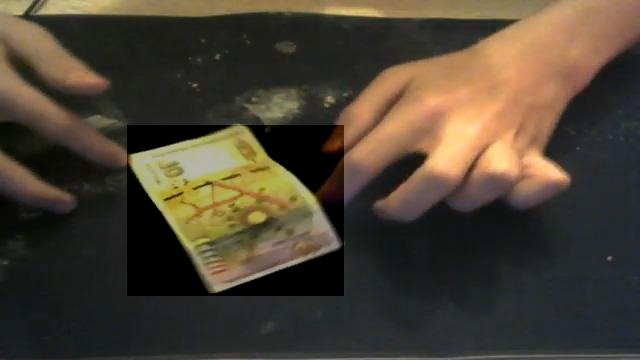10leva: (127, 125, 344, 296)
